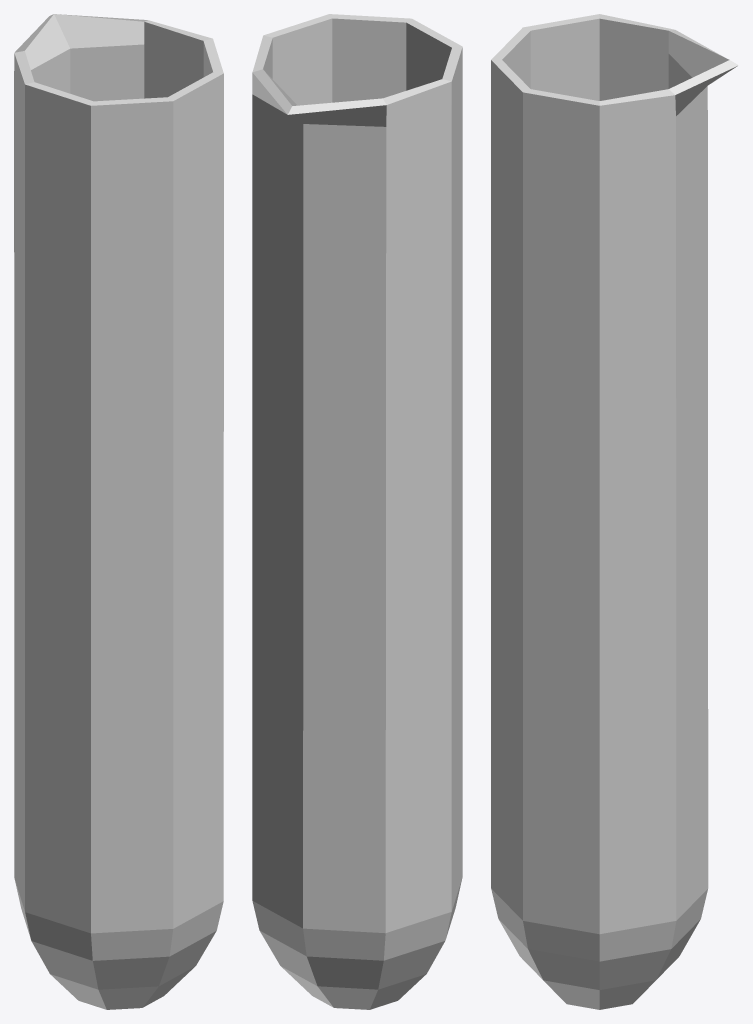
File: Alcohol.fbx
3 views of the same model, side by side, from view 1: azimuth 30°, elevation 25°; view 2: azimuth 150°, elevation 25°; view 3: azimuth 270°, elevation 25° (orthographic).
Parts seen in each view (by area): view 1: Cylinder.033; view 2: Cylinder.033; view 3: Cylinder.033.
Boxes of the visible parts, x1=… form: Cylinder.033: x1=14, y1=14, x2=223, y2=1009; Cylinder.033: x1=252, y1=14, x2=462, y2=1009; Cylinder.033: x1=491, y1=14, x2=738, y2=1009.
Bounding box in the file's own units: 9.77 × 46.17 × 11.15.
2 materials, 2 textured.
